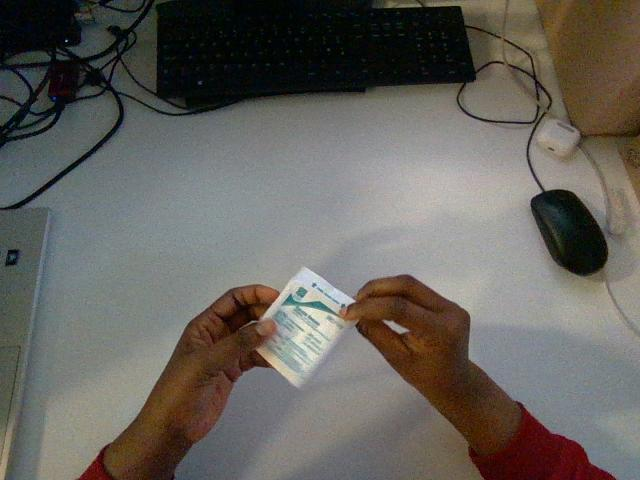gauze: (257, 268, 354, 386)
